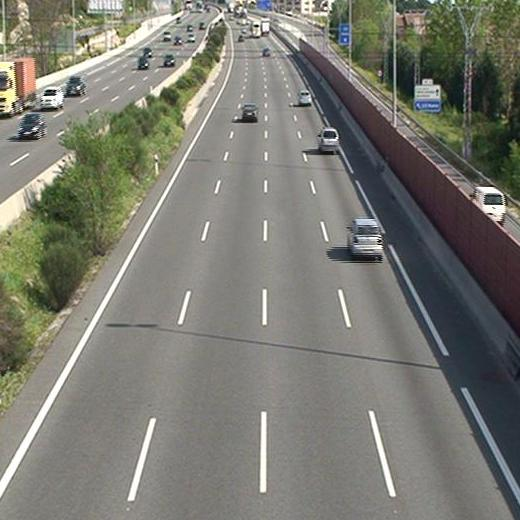car: (348, 219, 381, 258), (319, 129, 339, 152), (242, 103, 258, 121), (297, 91, 310, 105)
